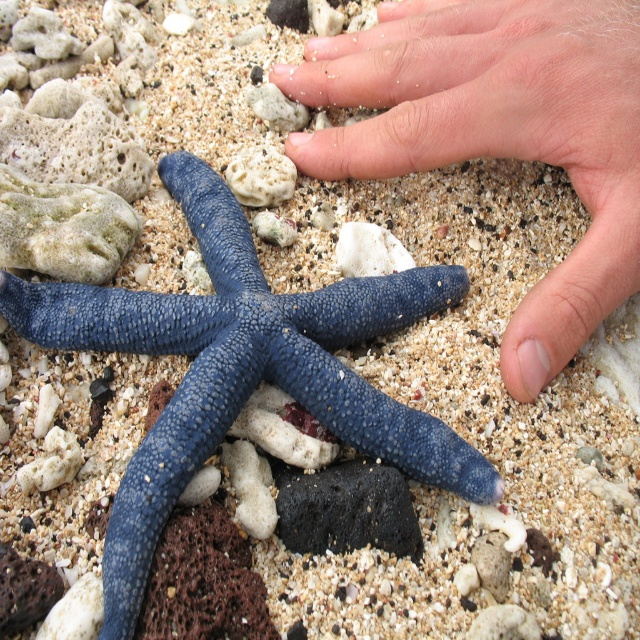Starfish: (0, 150, 505, 640)
